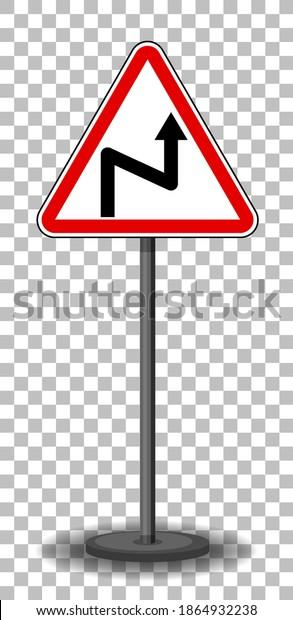Right Reverse Bend: (42, 37, 259, 241)
